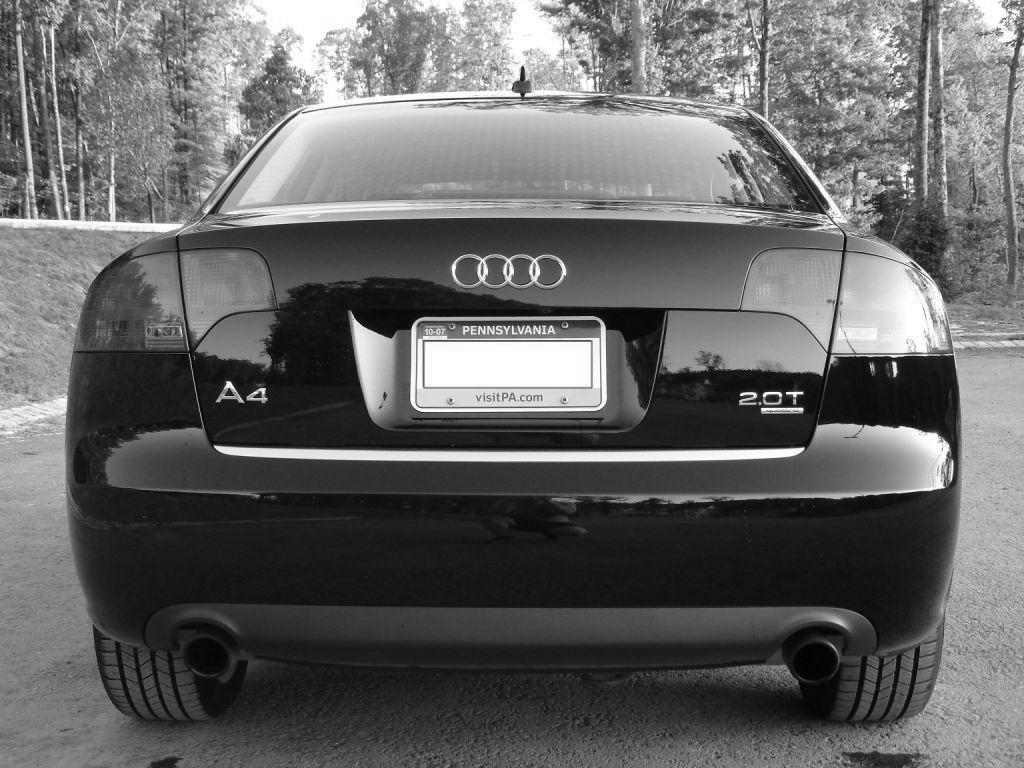car: (62, 66, 963, 725)
